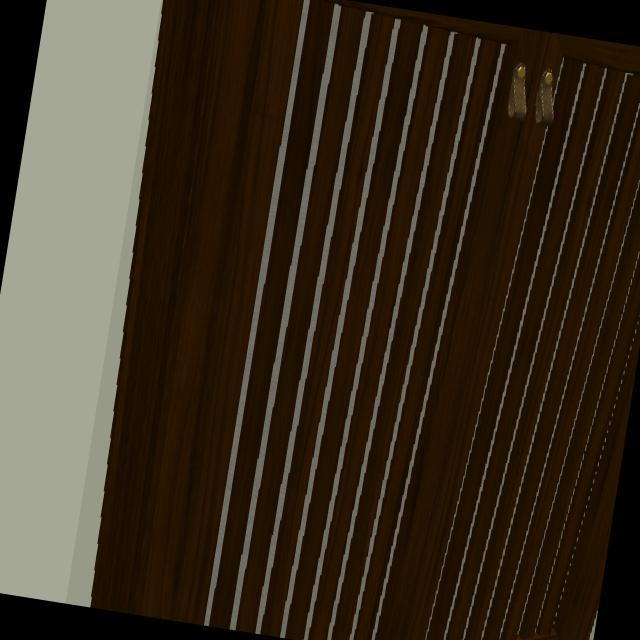wardrobe: (88, 0, 640, 640)
